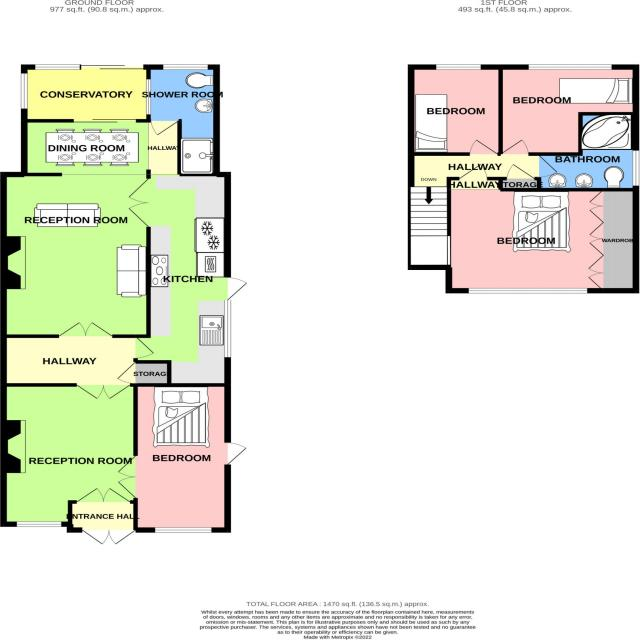DOOR: (224, 442, 249, 466), (224, 276, 248, 300), (468, 138, 499, 156), (458, 163, 488, 181), (500, 138, 530, 156), (150, 119, 180, 137), (133, 336, 156, 359), (537, 155, 559, 178)
DOUBLE DOOR: (125, 173, 153, 232), (54, 318, 121, 338)
ROOM: (445, 164, 640, 294), (0, 383, 138, 527), (116, 383, 248, 533), (498, 64, 639, 156), (407, 64, 503, 156)
WINDOW: (467, 287, 588, 294), (528, 64, 613, 70), (224, 299, 232, 358), (154, 527, 213, 533), (20, 73, 29, 110), (632, 150, 640, 186), (435, 64, 482, 70), (162, 64, 209, 70), (34, 64, 81, 70), (16, 521, 62, 527), (145, 79, 151, 116)
